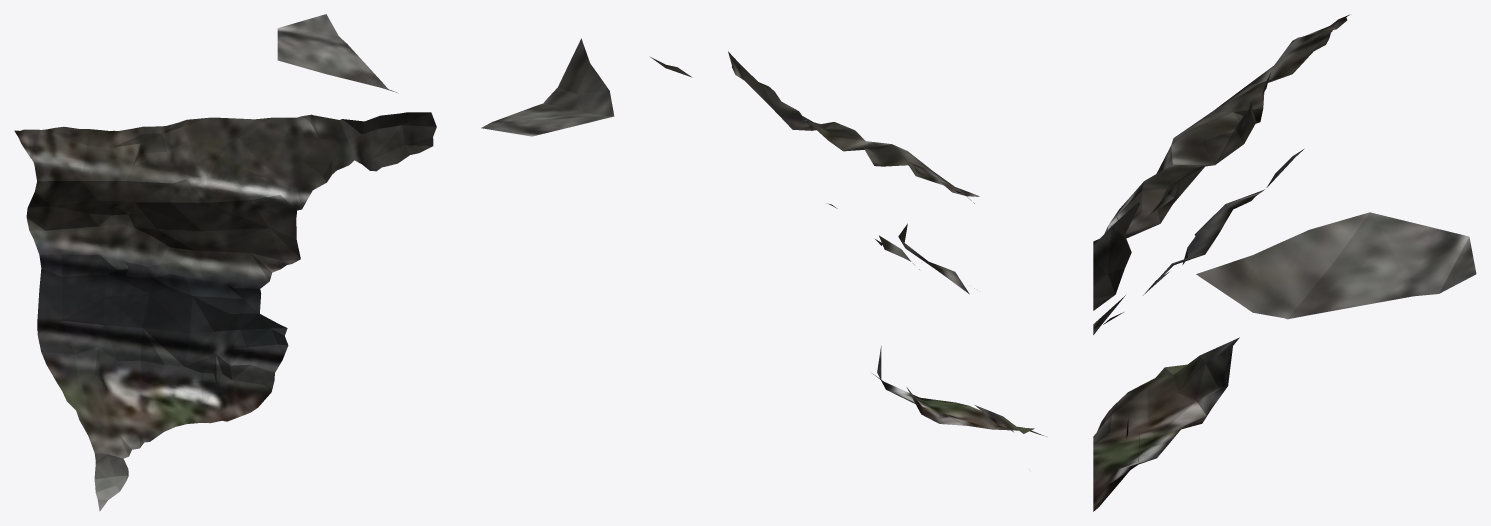
The picture shows the model from 3 angles, left to right: view 1: azimuth 30°, elevation 25°; view 2: azimuth 150°, elevation 25°; view 3: azimuth 270°, elevation 25°; orthographic projection. The views are drawn at different scales.
Bounding box in the file's own units: 0.8374 × 0.7207 × 0.5208.
2 materials, 2 textured.
